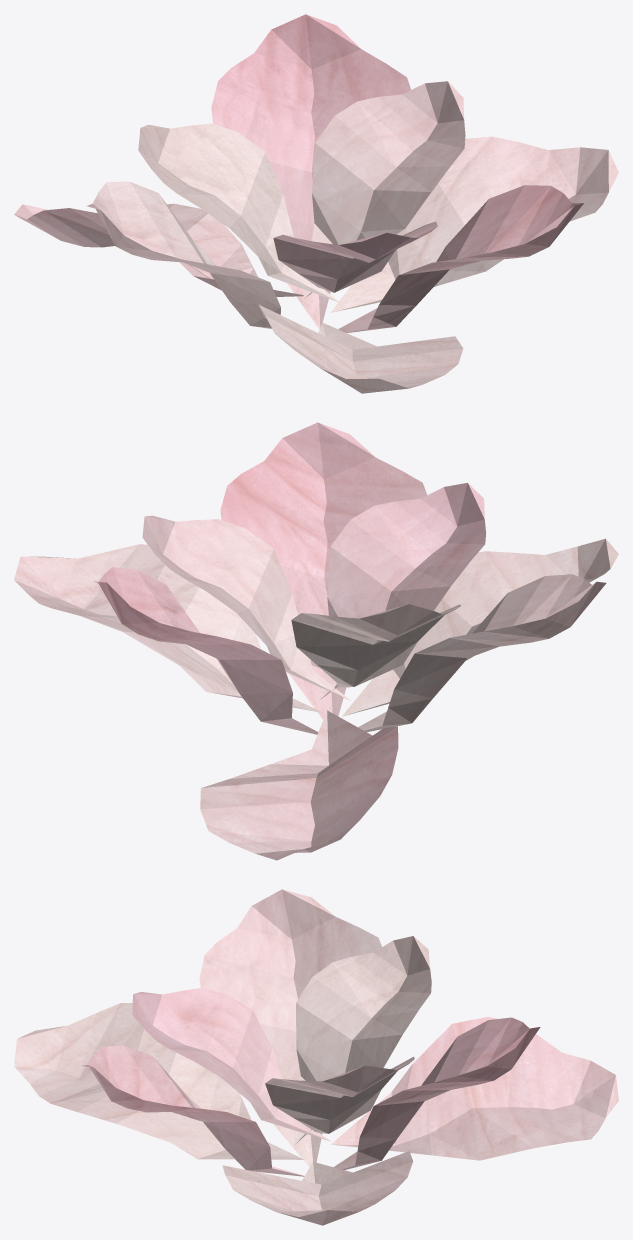
File: flower.dae
3 views of the same model, one above another, from view 1: azimuth 30°, elevation 25°; view 2: azimuth 150°, elevation 25°; view 3: azimuth 270°, elevation 25° (orthographic). The views are drawn at different scales.
Visible parts, largest first — view 1: Flower; view 2: Flower; view 3: Flower.
Boxes of the visible parts, left/top/right/bottom form: Flower: left=14, top=14, right=618, bottom=393; Flower: left=14, top=422, right=618, bottom=860; Flower: left=14, top=889, right=618, bottom=1225.
Size of the model in its own units: 0.1582 by 0.1686 by 0.0596.
